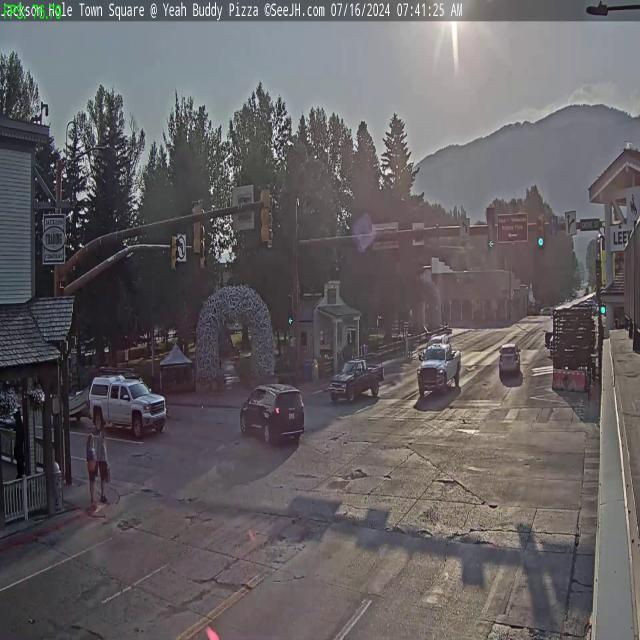person: (98, 427, 110, 519), (86, 422, 98, 507)
pickup: (94, 384, 170, 444), (417, 340, 462, 398), (328, 364, 386, 406)
suv: (240, 381, 306, 446), (497, 342, 520, 376)
traffic light: (260, 184, 272, 246), (190, 200, 203, 256), (486, 207, 496, 249), (170, 233, 180, 272), (536, 215, 546, 248)
